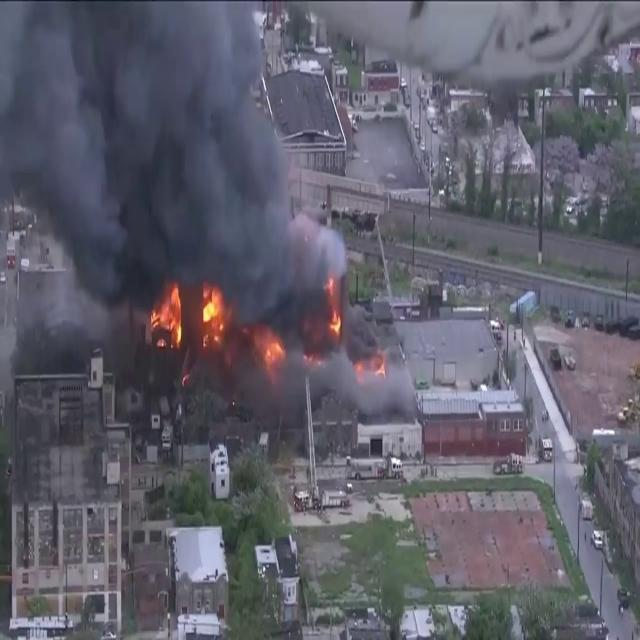Fire: (147, 276, 185, 349), (198, 278, 228, 340), (328, 298, 344, 344)
Smoke: (0, 2, 356, 370)
